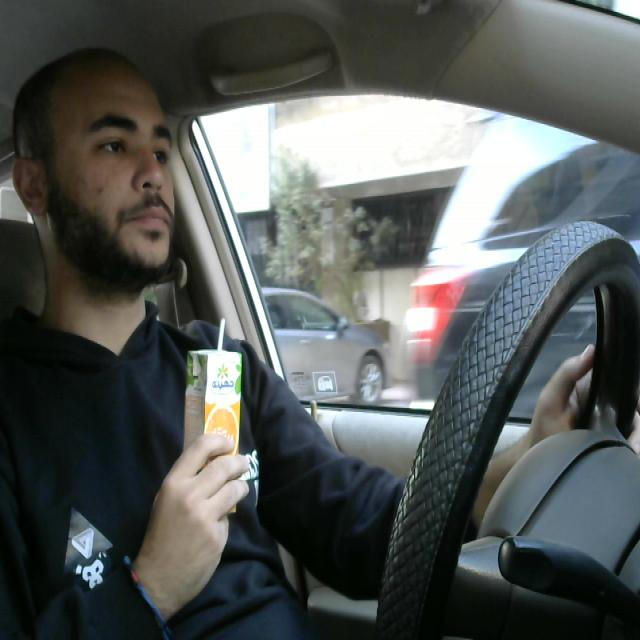drinking: (179, 314, 251, 518)
